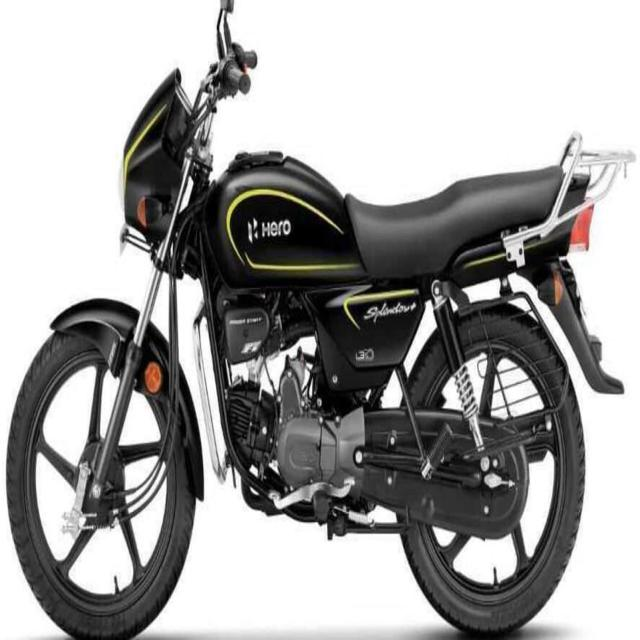Bike: (5, 1, 634, 640)
